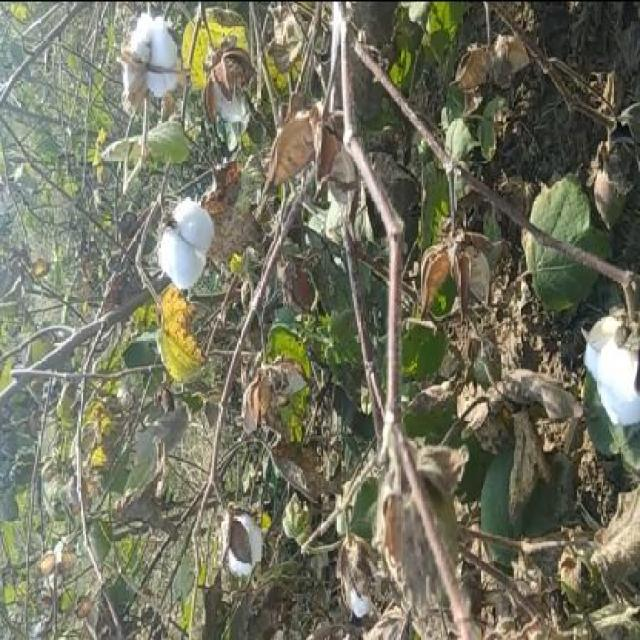cotton_ready: (582, 263, 640, 472), (159, 175, 221, 293), (112, 13, 196, 93), (217, 485, 278, 593)
